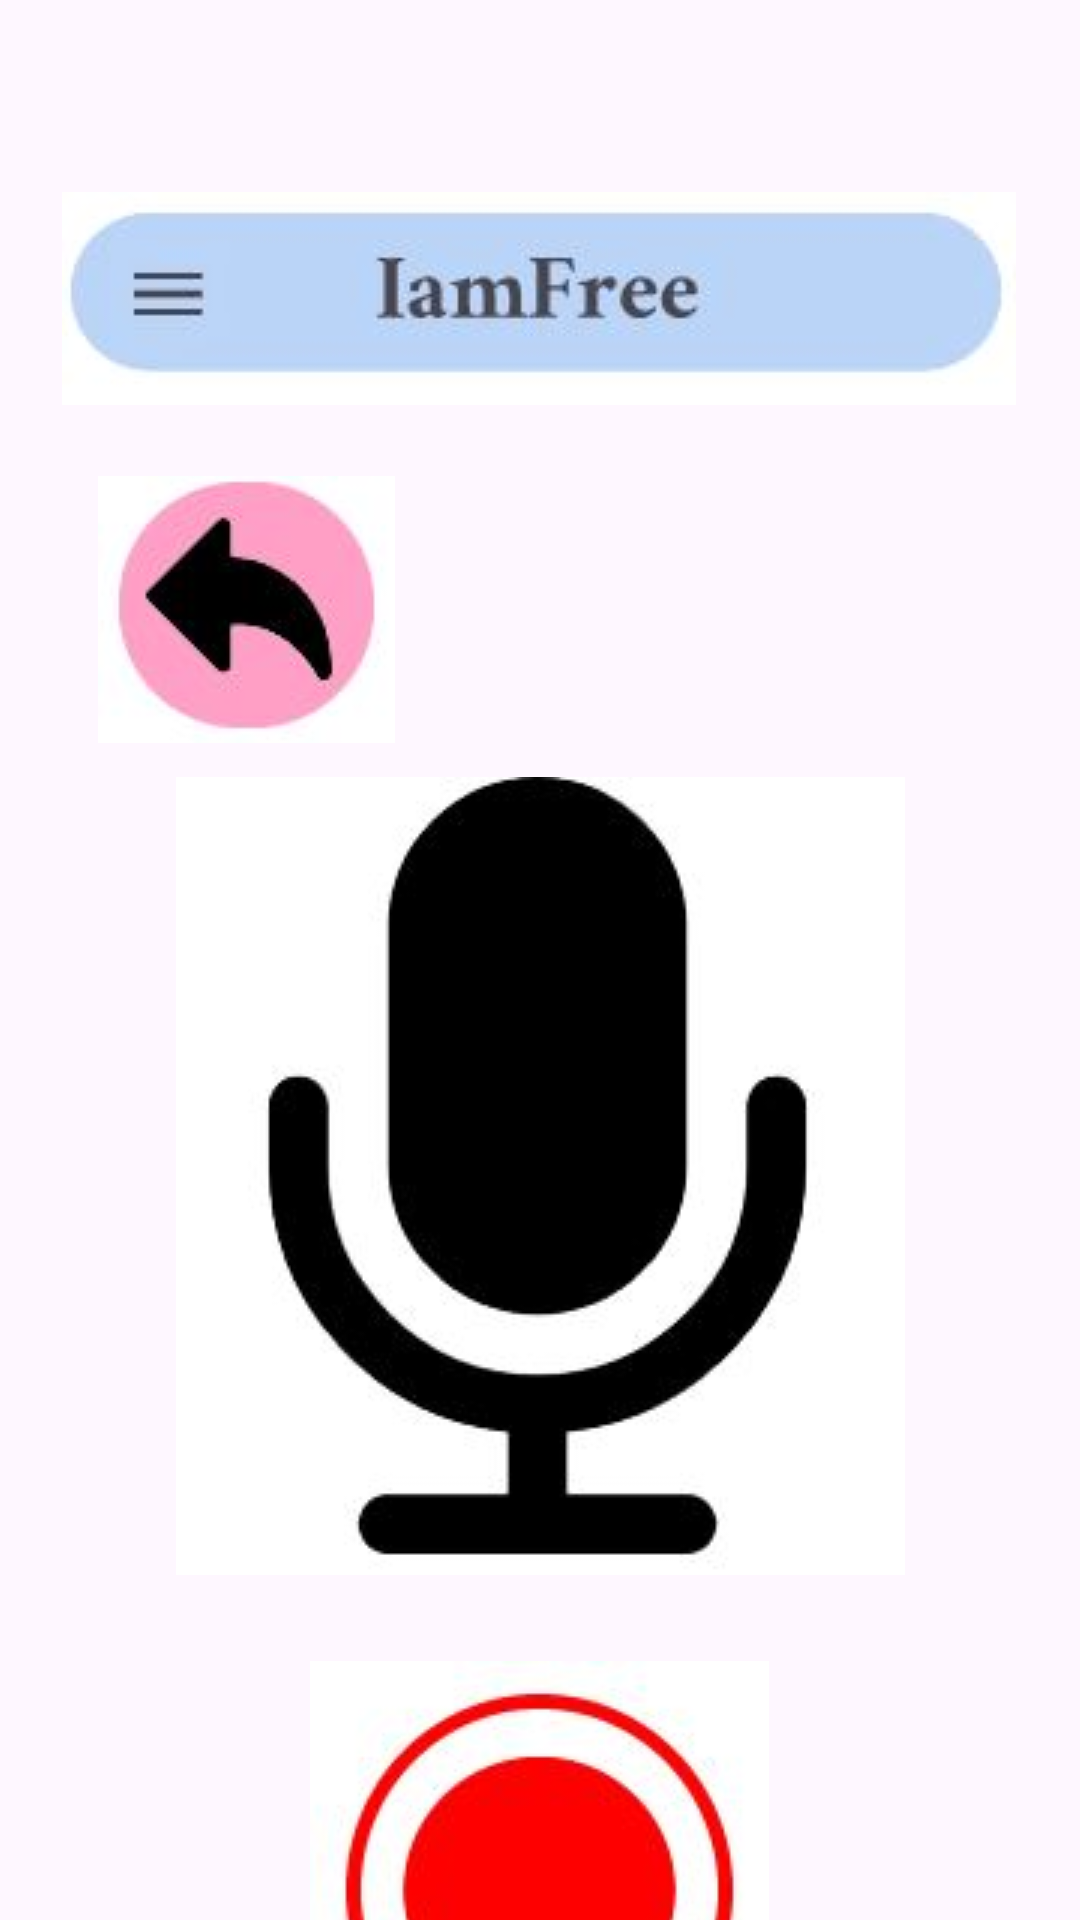

Point at icon controls on the screen. Image size 1080 x 1920, points as [x,y].
atras: [246,605]
